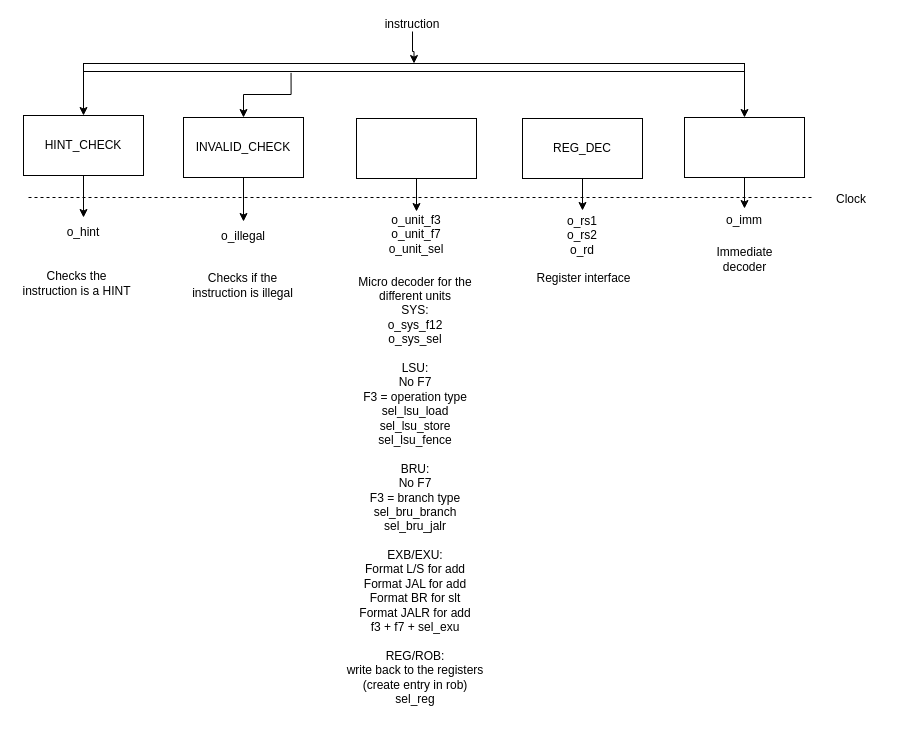
Image size: 898x730. Some labels were removed from this diagram. Each missing label, with the box of its shape:
IMM_DEC: (684, 116, 804, 178)
UNIT_UDEC: (356, 118, 476, 178)
